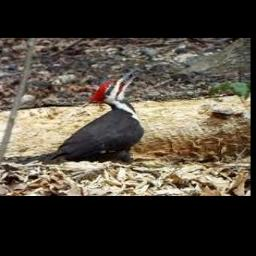Woodpecker: (15, 70, 145, 164)
